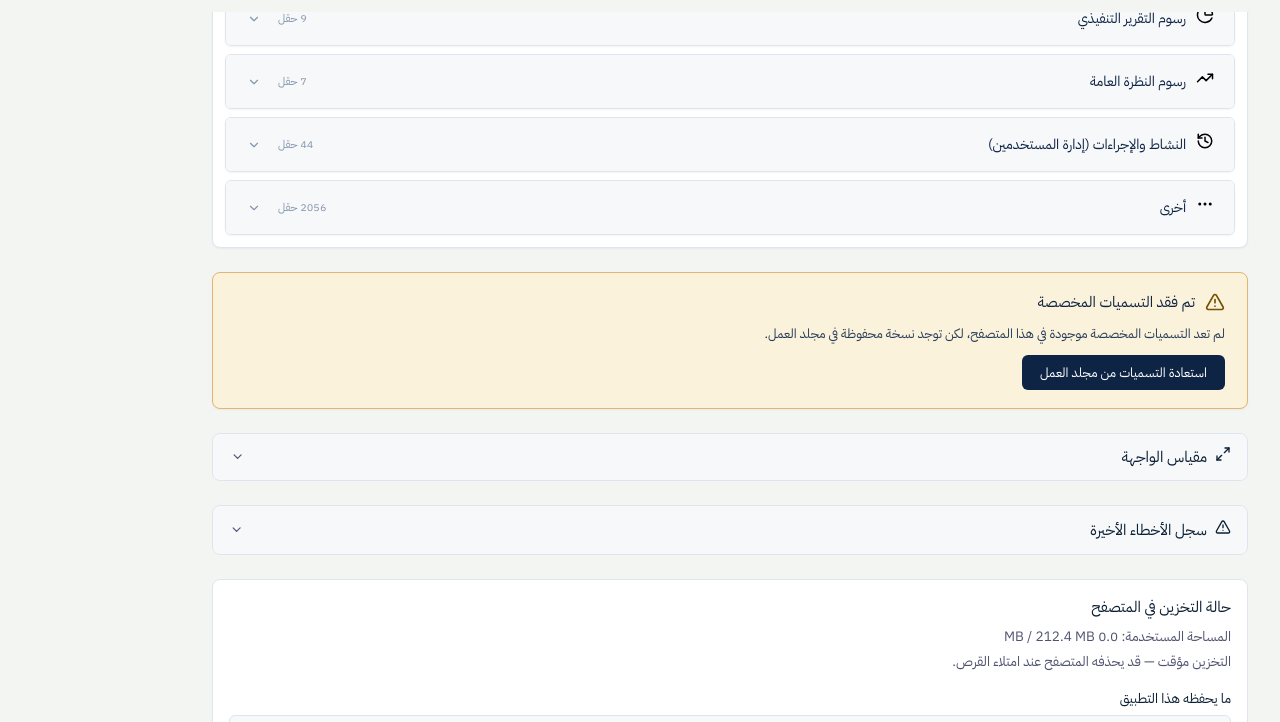
Test: SettingsPage — label-override restore offer effect › finding 4: keeps the offer and surfaces a failure message when importLabelsSnapshot restores nothing
(page scrolled)
Expected: the heading "تم فقد التسميات المخصصة" is shown, [1038,291,1195,313]
What coordinates should you click on to do the following:
click the button "استعادة التسميات من مجلد العمل"
I would click on:
 (1124, 372)
Its box is [1022,355,1225,390].
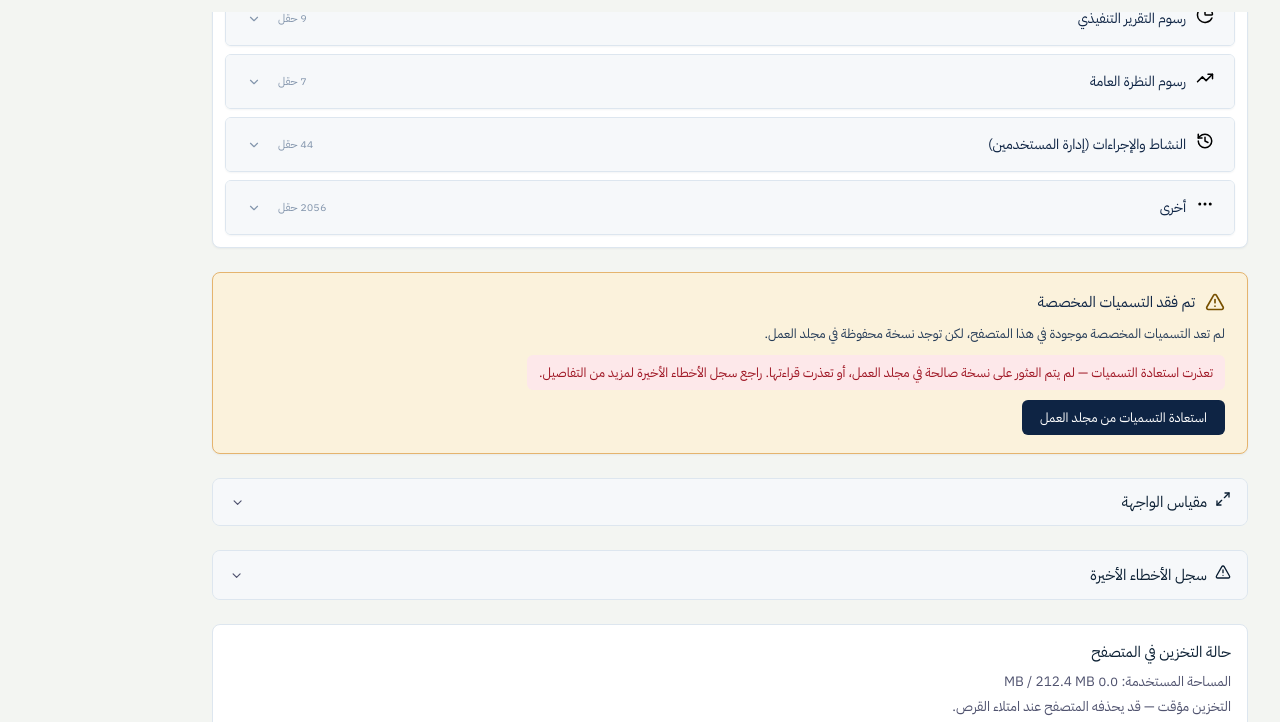
Expected: the heading "تم فقد التسميات المخصصة" is shown, [1038,291,1195,313]
Expected: the text "تعذرت استعادة التسميات — لم يتم العثور على نسخة صالحة في مجلد العمل، أو تعذرت قراءتها. راجع سجل الأخطاء الأخيرة لمزيد من" is shown, [539,363,1213,382]
